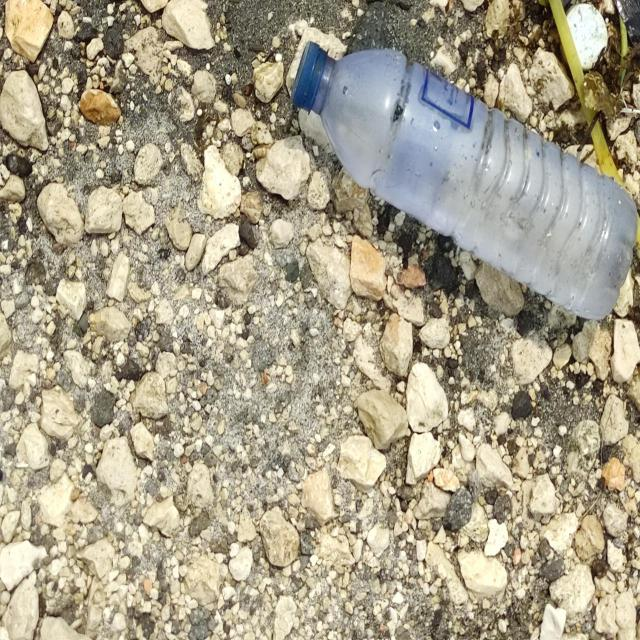plastic_waste: (293, 42, 638, 318)
